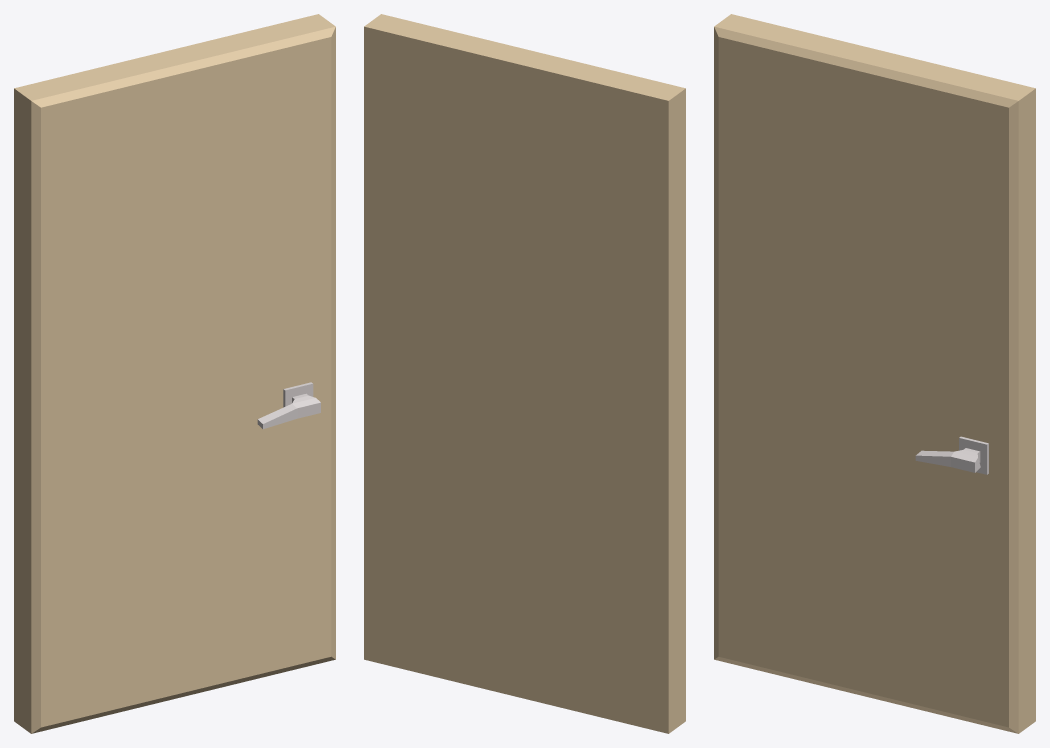
The model's file is office_doorway_door.fbx.
3 renders of one model, left to right at view 1: azimuth 30°, elevation 25°; view 2: azimuth 150°, elevation 25°; view 3: azimuth 330°, elevation 25°, orthographic.
Parts seen in each view (by area): view 1: officedoor; view 2: officedoor; view 3: officedoor.
Part boxes in pixels (bbox=[...]): officedoor: bbox=[14, 14, 335, 733]; officedoor: bbox=[364, 14, 685, 733]; officedoor: bbox=[714, 14, 1035, 733].
Size of the model in its own units: 118 by 234 by 21.64.
